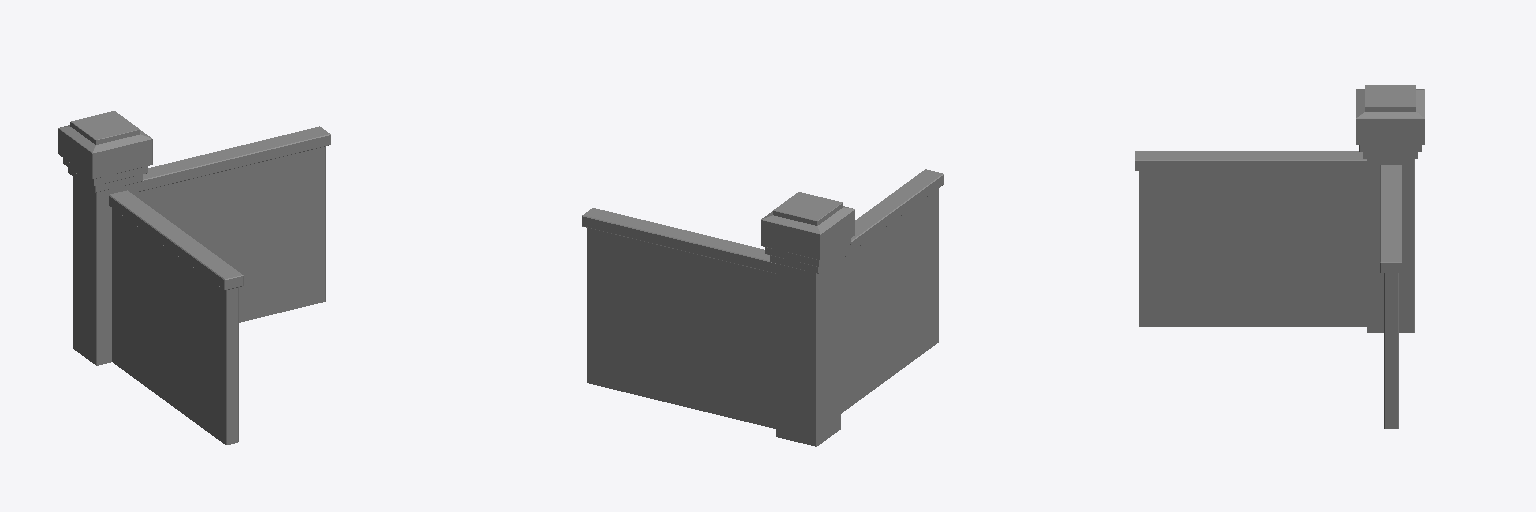
The picture shows the model from 3 angles: view 1: azimuth 30°, elevation 25°; view 2: azimuth 150°, elevation 25°; view 3: azimuth 270°, elevation 25°; orthographic projection.
Parts seen in each view (by area): view 1: brick_wall_small_corner; view 2: brick_wall_small_corner; view 3: brick_wall_small_corner.
Part boxes in pixels (left/top/right/bottom): brick_wall_small_corner: left=58, top=111, right=330, bottom=444; brick_wall_small_corner: left=582, top=169, right=943, bottom=446; brick_wall_small_corner: left=1135, top=85, right=1424, bottom=428.
Bounding box in the file's own units: 350 × 303 × 352.